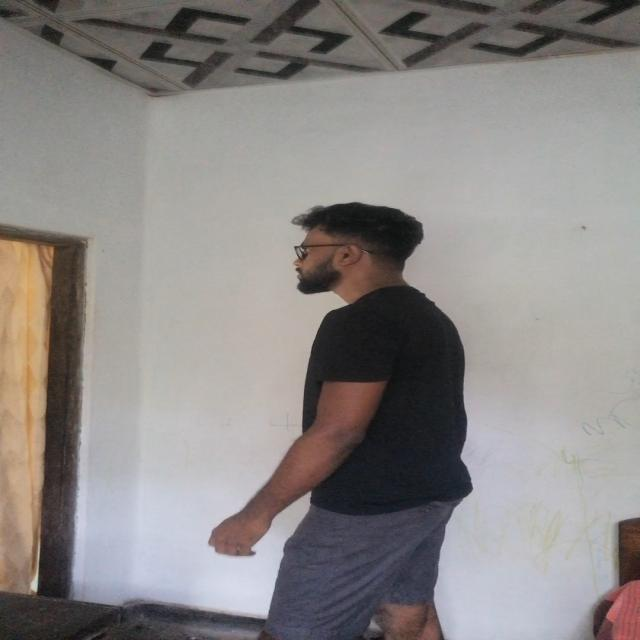Person: (196, 200, 482, 640)
